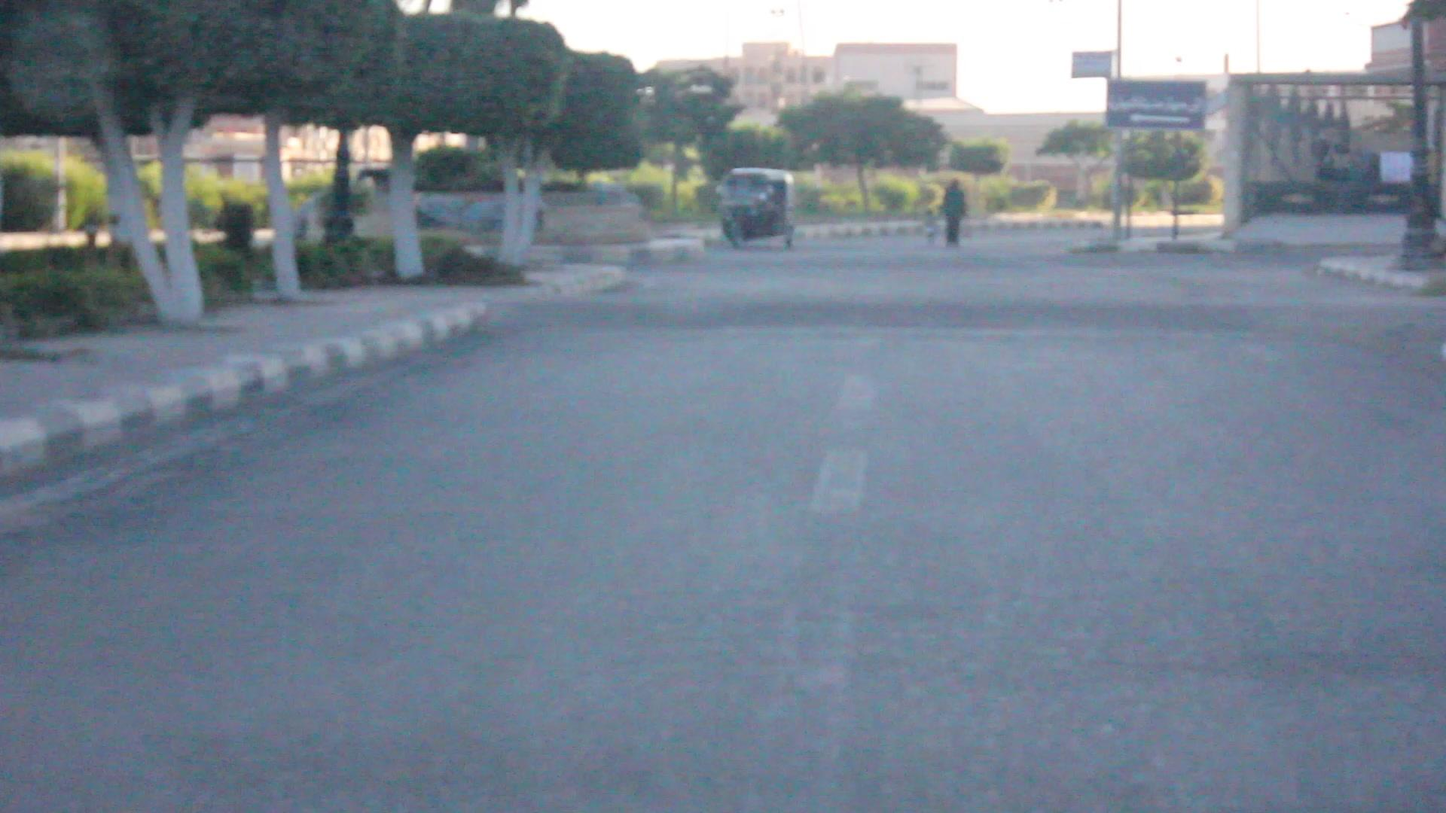Bump: (476, 294, 1445, 331)
